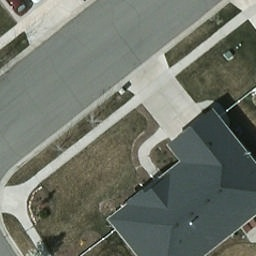car: (0, 0, 30, 17), (12, 0, 48, 4)
